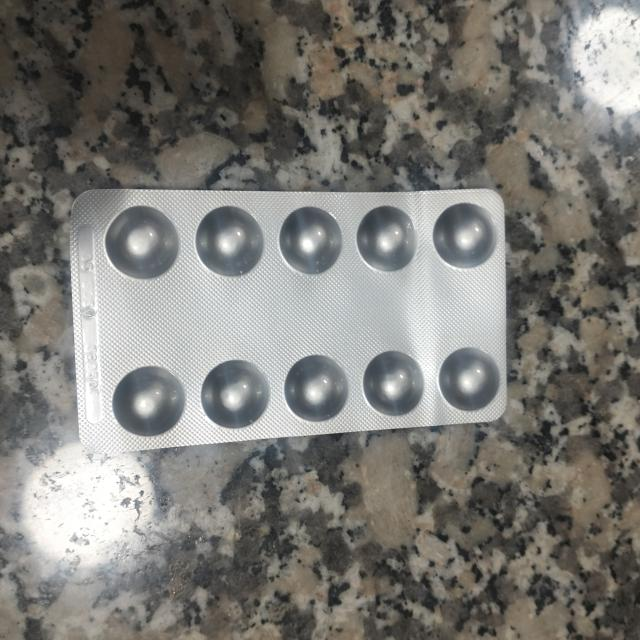blister: (68, 188, 509, 454)
